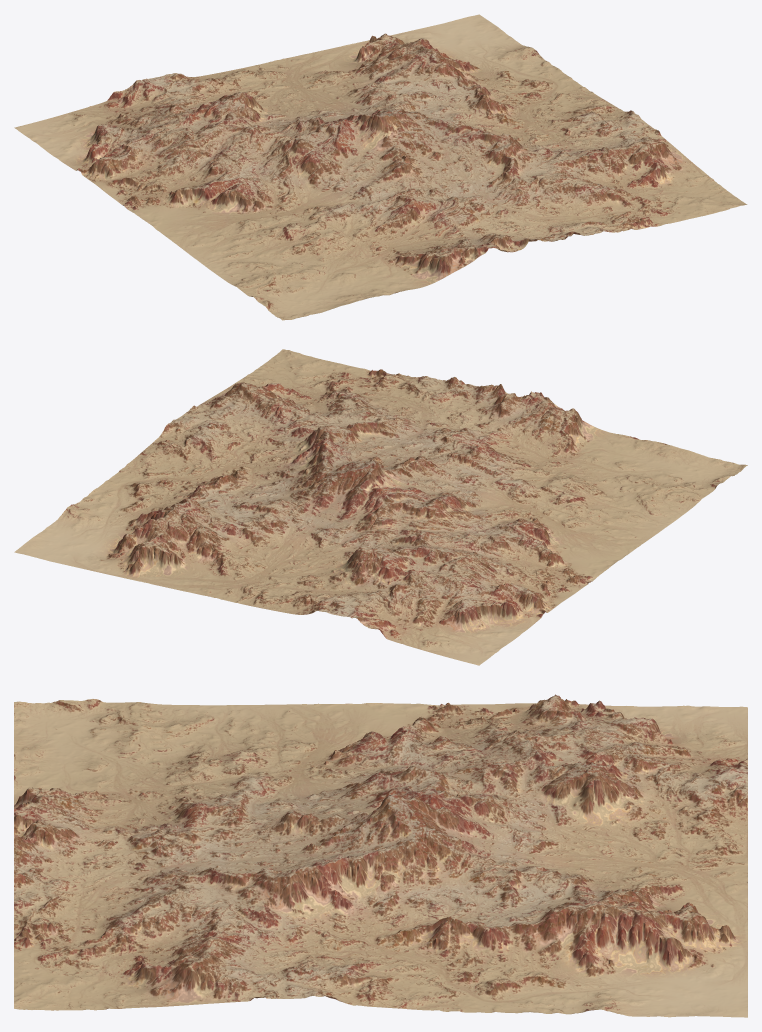
Rendered from rocky.glb.
3 views of the same model, one above another, from view 1: azimuth 30°, elevation 25°; view 2: azimuth 150°, elevation 25°; view 3: azimuth 270°, elevation 25° (orthographic). The views are drawn at different scales.
Parts seen in each view (by area): view 1: Object_3, Object_2, Object_4; view 2: Object_2, Object_3, Object_4; view 3: Object_3, Object_2, Object_4.
Part boxes in pixels (x1,y1,x2,y2): Object_3: (189,50,723,320); Object_2: (14,14,566,320); Object_4: (78,50,747,317); Object_2: (14,426,747,665); Object_3: (71,366,745,542); Object_4: (72,349,735,615); Object_3: (14,703,593,1012); Object_2: (14,694,747,1017); Object_4: (14,698,602,1014).
Bounding box in the file's own units: 1 × 0.1043 × 1.
Materials: 1 (1 with a texture image).
